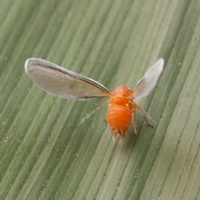insect: (25, 58, 163, 139)
